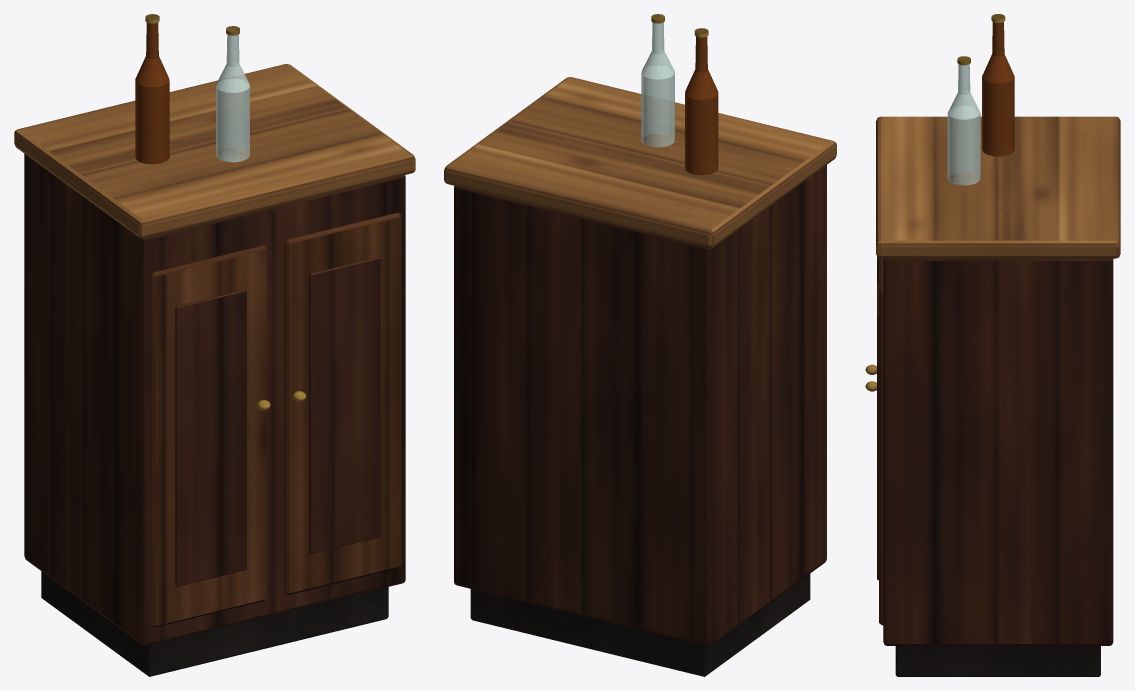
The model's file is bar_cabinet.glb.
3 views of the same model, side by side, from view 1: azimuth 30°, elevation 25°; view 2: azimuth 150°, elevation 25°; view 3: azimuth 270°, elevation 25° (orthographic). The views are drawn at different scales.
Visible parts, largest first — view 1: bar_cabinet; view 2: bar_cabinet; view 3: bar_cabinet.
Boxes of the visible parts, box(x1,y1,x2,y2) form: bar_cabinet: box(14, 14, 415, 676); bar_cabinet: box(444, 14, 836, 676); bar_cabinet: box(865, 14, 1120, 676).
Size of the model in its own units: 0.62 by 1.3 by 0.522.
7 materials, 5 textured.
